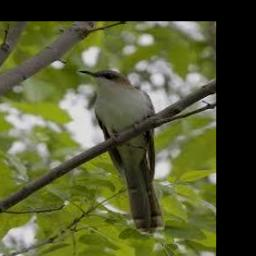Cuckoo: (79, 69, 165, 233)
